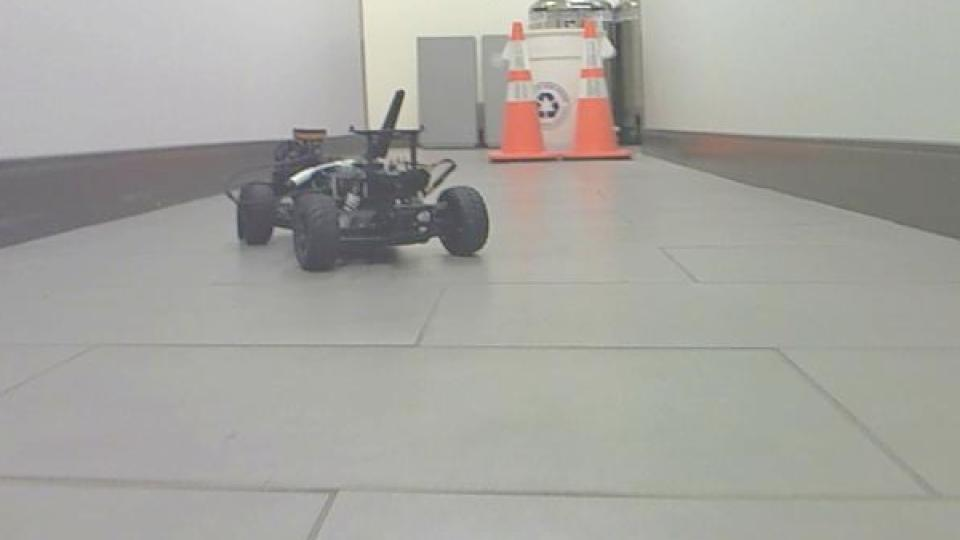car: (224, 87, 494, 275)
